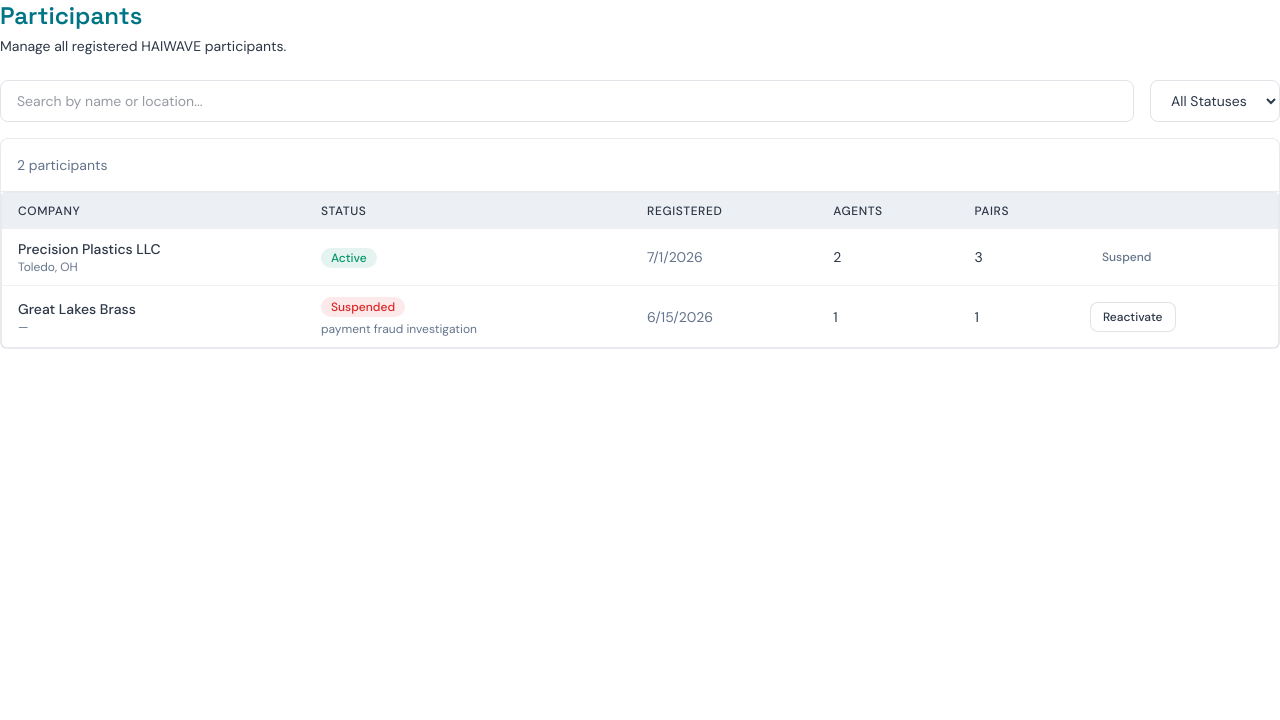
Test: /admin/participants on the real list API › a failed action surfaces the failure and does NOT flip any row state locally
Click the button "Suspend": (1127, 257) [1090, 243, 1163, 271]
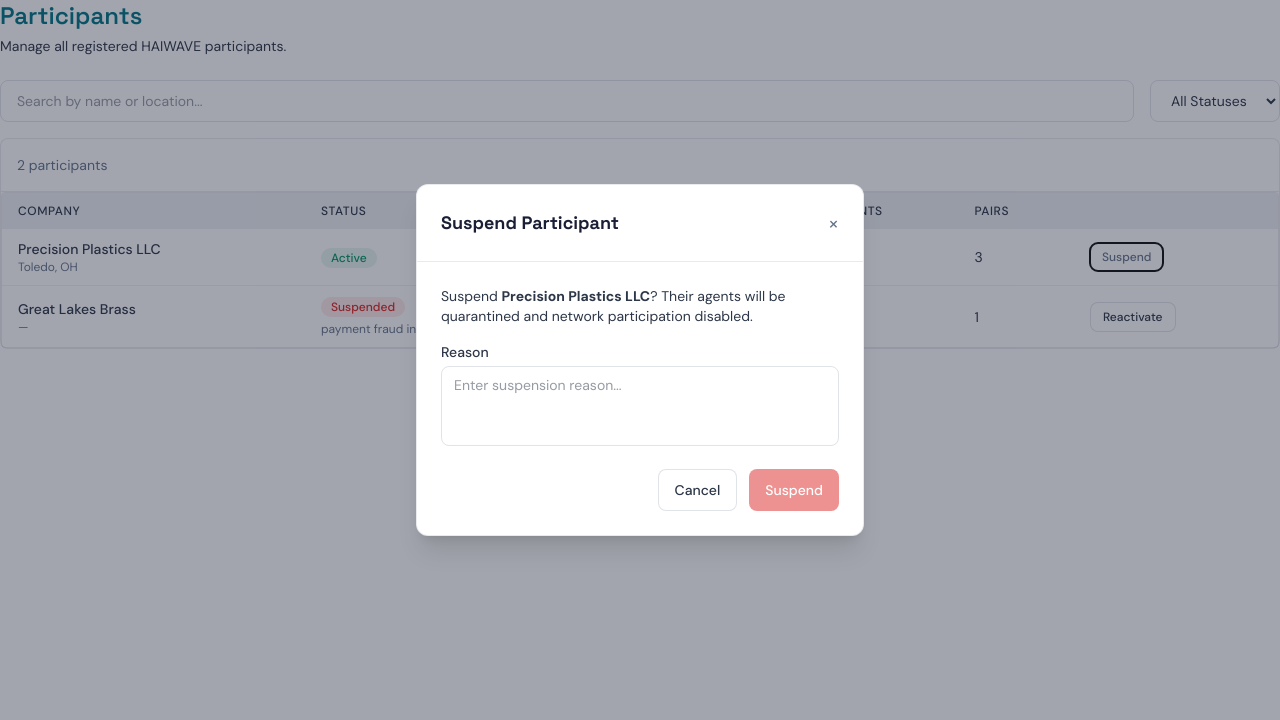
In the text box with placeholder "Enter suspension reason...": (640, 406) [441, 366, 839, 446], type "contract breach"
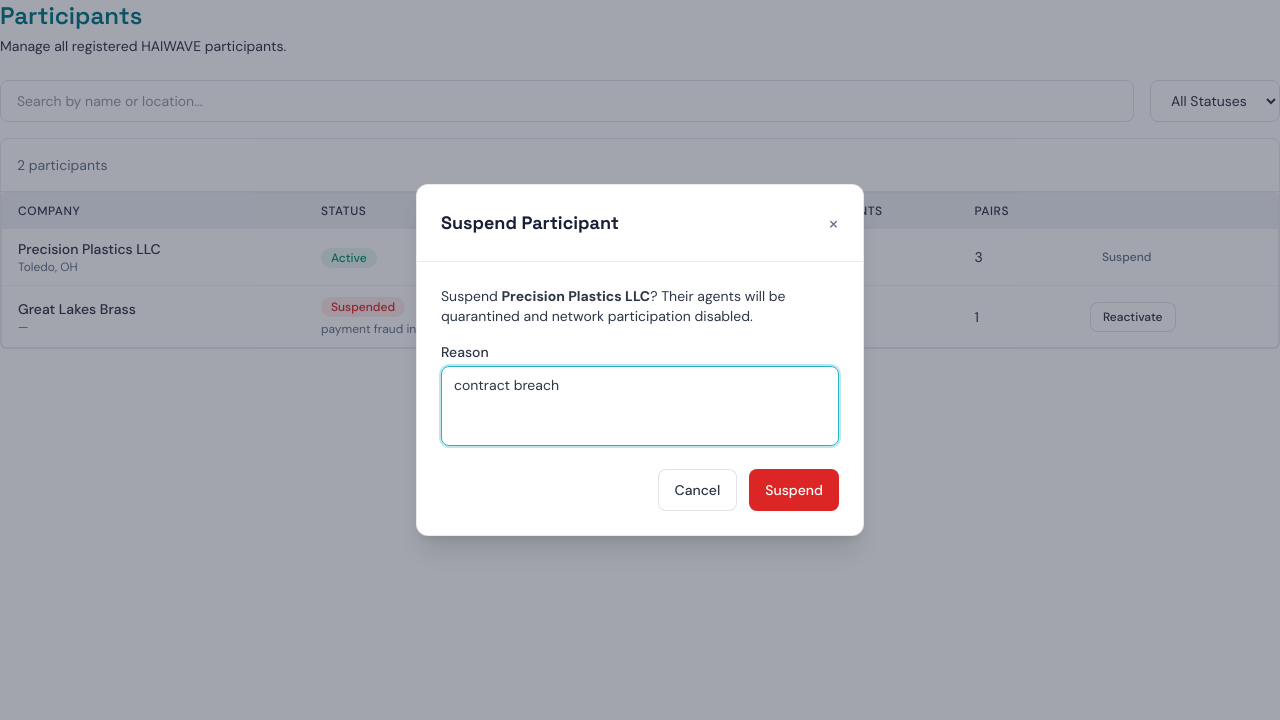
Click the button "Suspend": (794, 490) [749, 469, 839, 511]
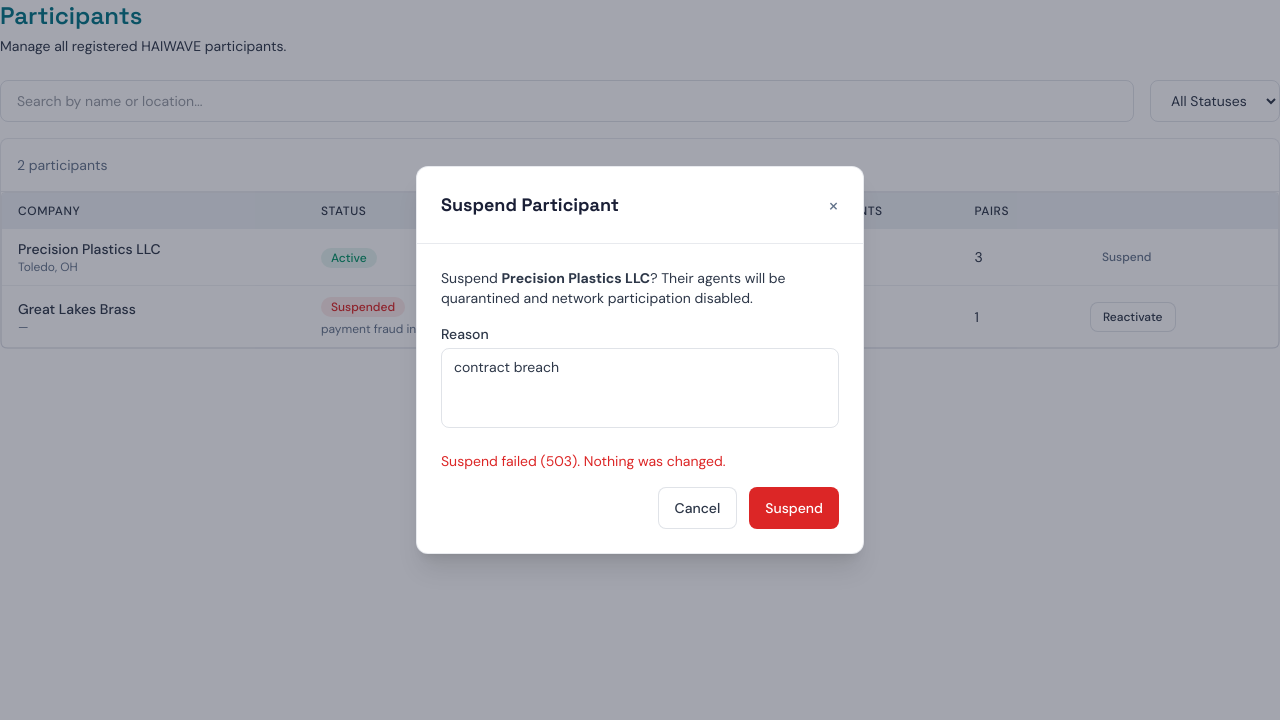
Check: the text "Suspend failed (503). Nothing was changed." is shown, box [441, 452, 726, 470]
